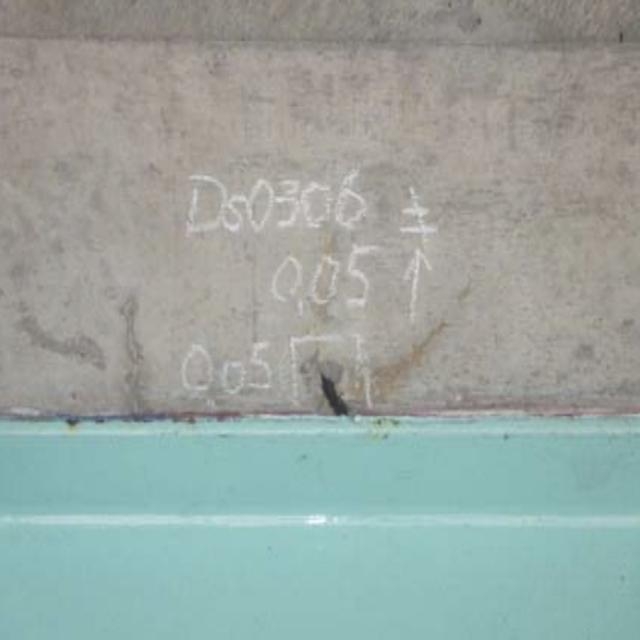spalling: (276, 330, 361, 413)
